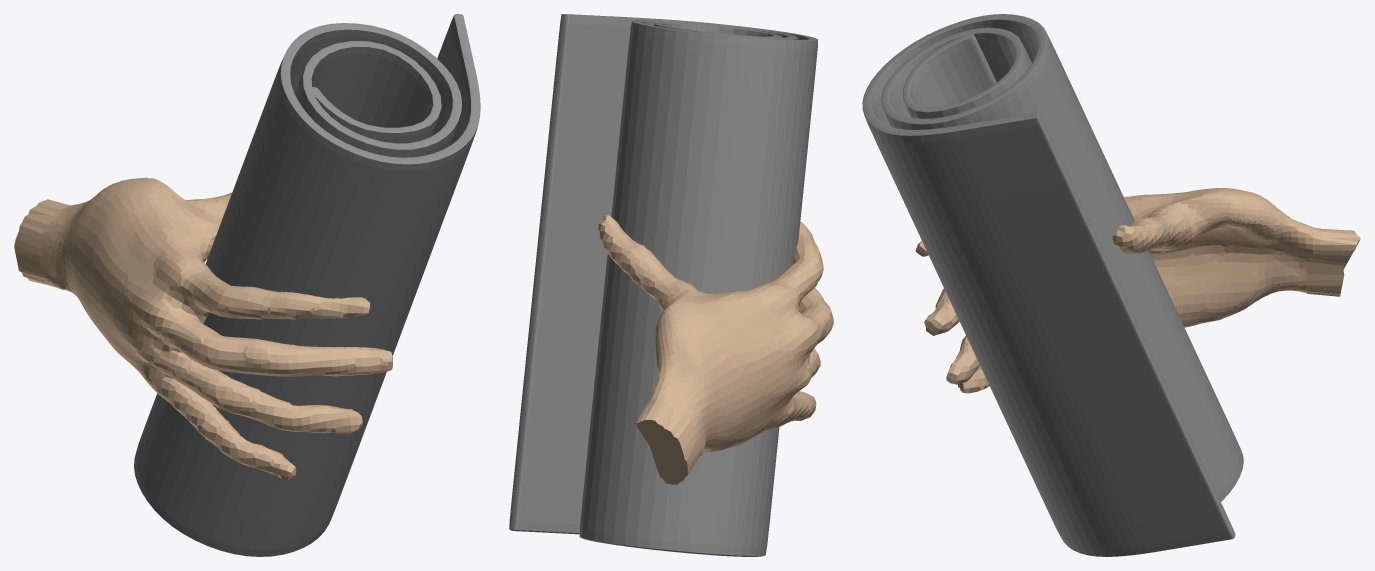
Rendered from hand-with-isolationmat.fbx.
3 renders of one model, left to right at view 1: azimuth 30°, elevation 25°; view 2: azimuth 150°, elevation 25°; view 3: azimuth 270°, elevation 25°, orthographic. The views are drawn at different scales.
Parts seen in each view (by area): view 1: Plane_Plane.000, Object03.002; view 2: Plane_Plane.000, Object03.002; view 3: Plane_Plane.000, Object03.002.
Boxes of the visible parts, box(x1,y1,x2,y2) form: Plane_Plane.000: box(134, 14, 480, 556); Object03.002: box(14, 177, 392, 480); Plane_Plane.000: box(509, 14, 818, 556); Object03.002: box(598, 214, 833, 484); Plane_Plane.000: box(862, 14, 1243, 556); Object03.002: box(915, 188, 1360, 393).
Bounding box in the file's own units: 560 × 973 × 856.
